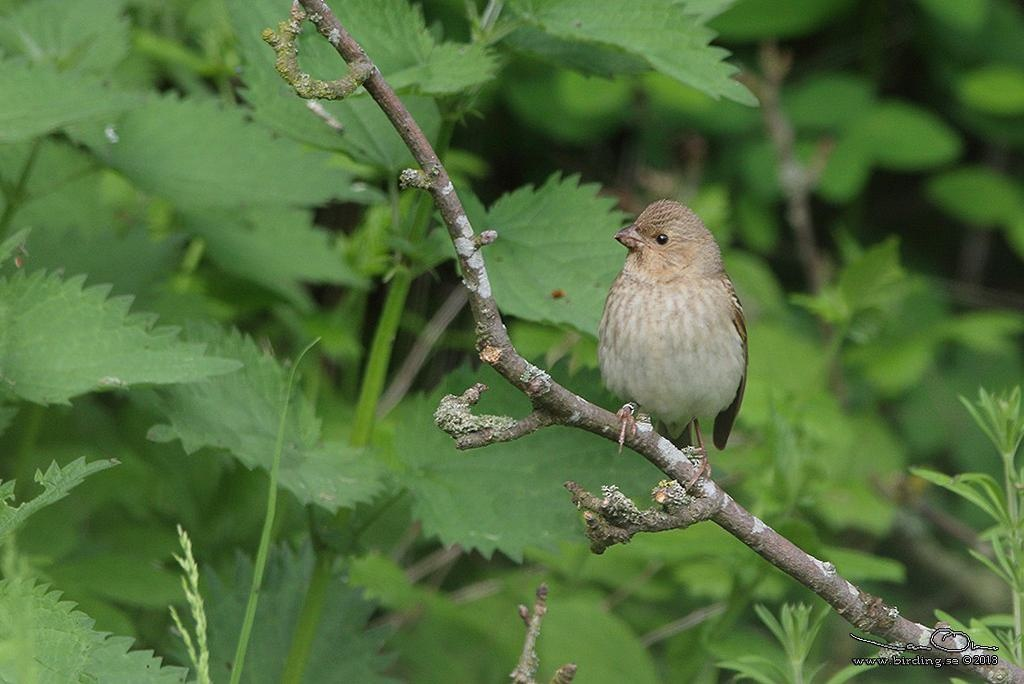rosefinch: (581, 130, 761, 480)
